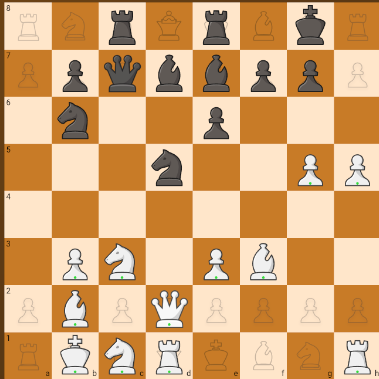bb: (150, 50, 189, 96), (197, 53, 237, 95)
bk: (290, 3, 331, 47)
bn: (147, 147, 188, 190), (54, 100, 95, 142)
bp: (54, 55, 96, 94), (243, 57, 282, 96), (201, 100, 233, 143), (293, 55, 328, 94)
bq: (101, 53, 143, 95)
br: (196, 3, 240, 48), (101, 4, 144, 49)
wb: (245, 239, 284, 284), (54, 287, 92, 327)
wk: (56, 334, 96, 377)
wn: (101, 333, 142, 378), (100, 241, 139, 283)
wp: (196, 243, 235, 282), (57, 243, 95, 283), (292, 149, 330, 189), (339, 150, 376, 188)
wq: (147, 287, 191, 331)
wr: (150, 336, 190, 378), (341, 335, 377, 377)
